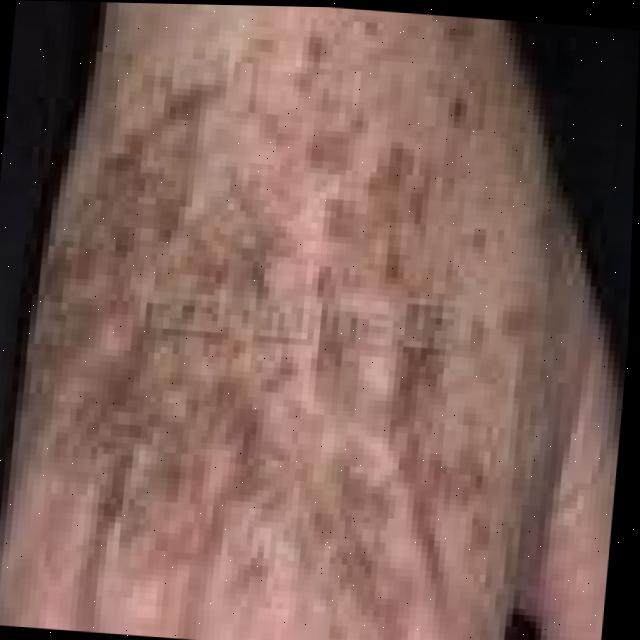Melasma: (39, 56, 426, 498)
